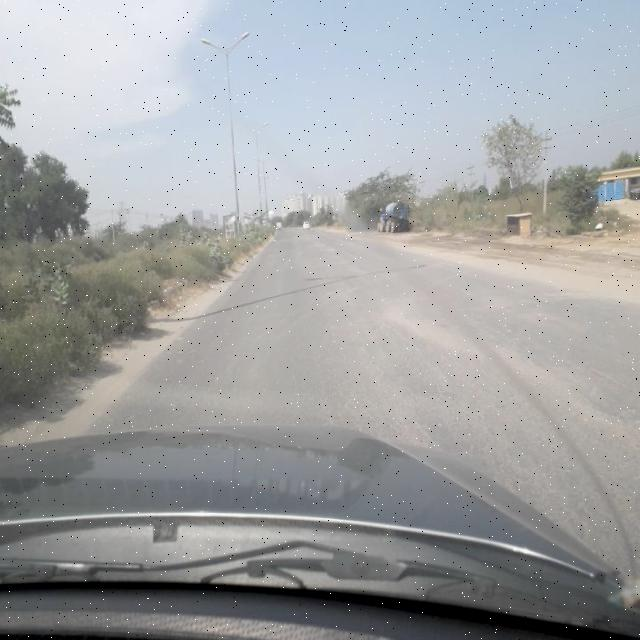D20: (290, 308, 640, 502)
D40: (568, 345, 636, 443)
